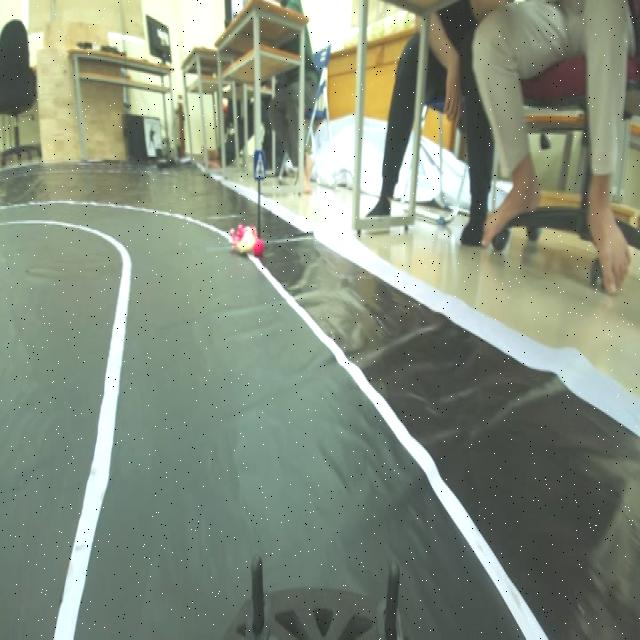crosswalk: (247, 146, 270, 182)
